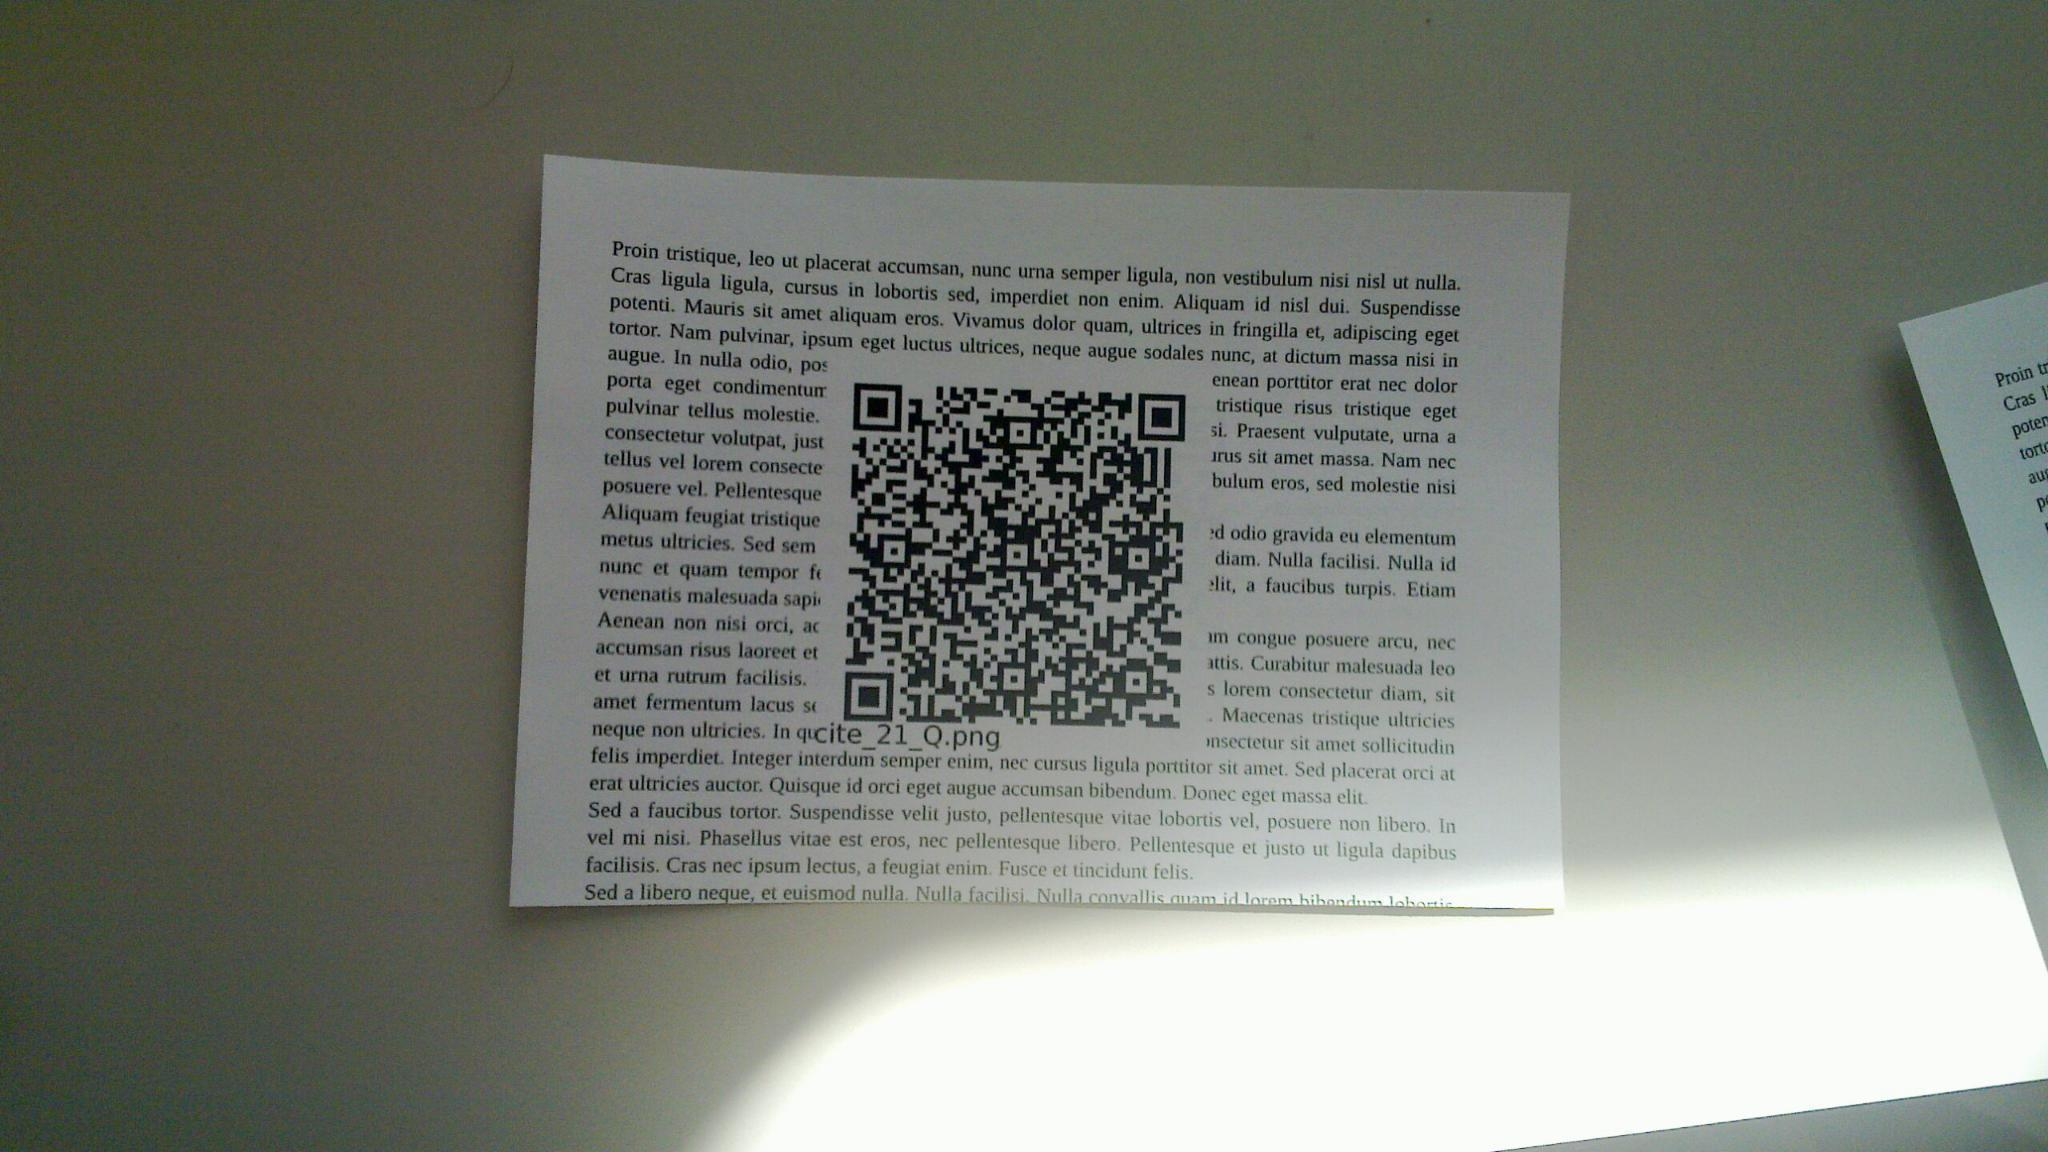qr_code: (844, 381, 1187, 730)
